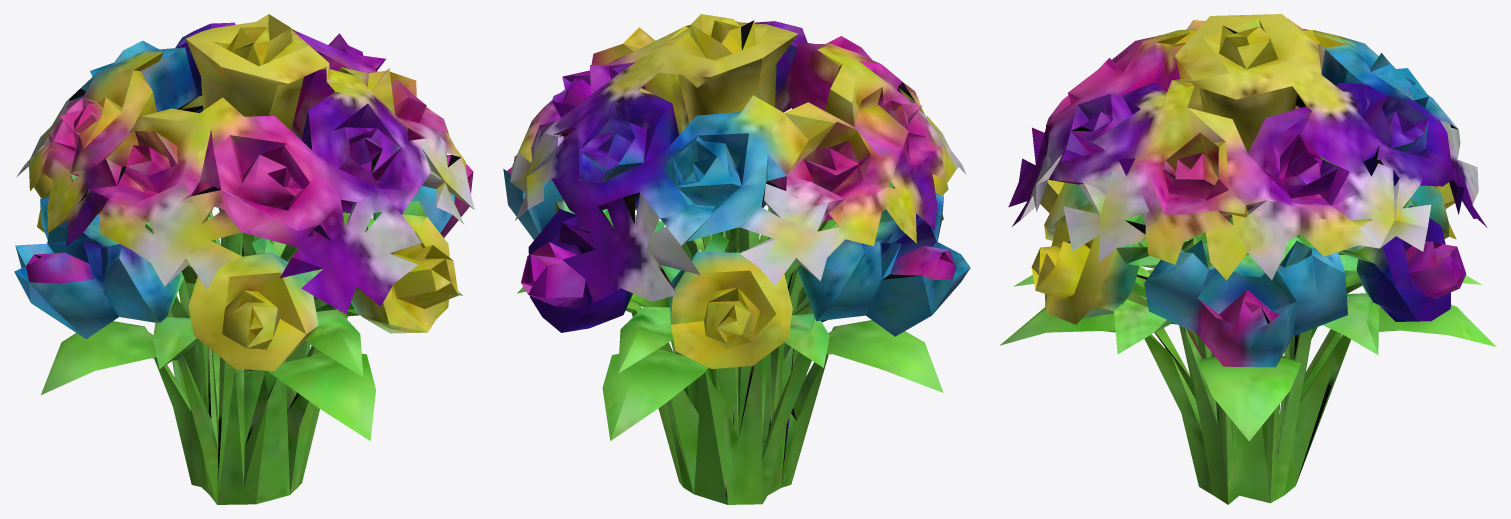
File: bouquet_bright_lod0.glb
3 views of the same model, side by side, from view 1: azimuth 30°, elevation 25°; view 2: azimuth 150°, elevation 25°; view 3: azimuth 270°, elevation 25° (orthographic).
Parts seen in each view (by area): view 1: bb_solid_lod0; view 2: bb_solid_lod0; view 3: bb_solid_lod0.
Part boxes in pixels (x1,y1,x2,y2): bb_solid_lod0: (14, 14, 474, 504); bb_solid_lod0: (503, 14, 970, 504); bb_solid_lod0: (1000, 14, 1496, 504).
Bounding box in the file's own units: 0.5146 × 0.5028 × 0.4953.
1 material, 1 textured.
